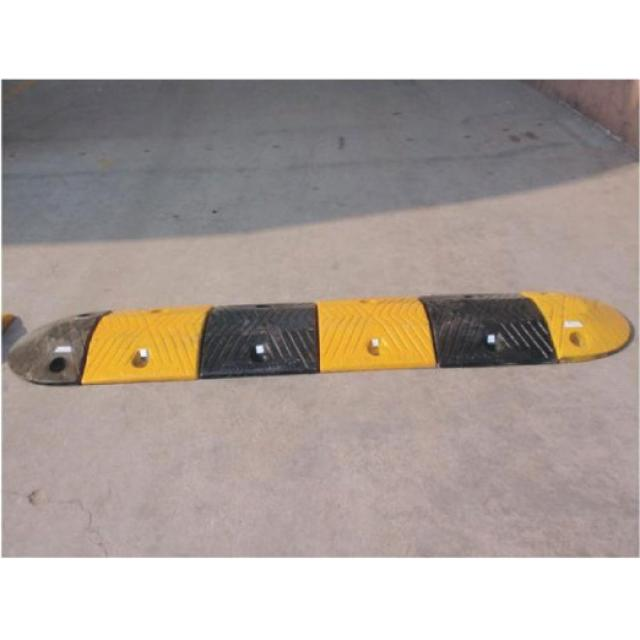Speed Bump: (16, 296, 640, 386)
